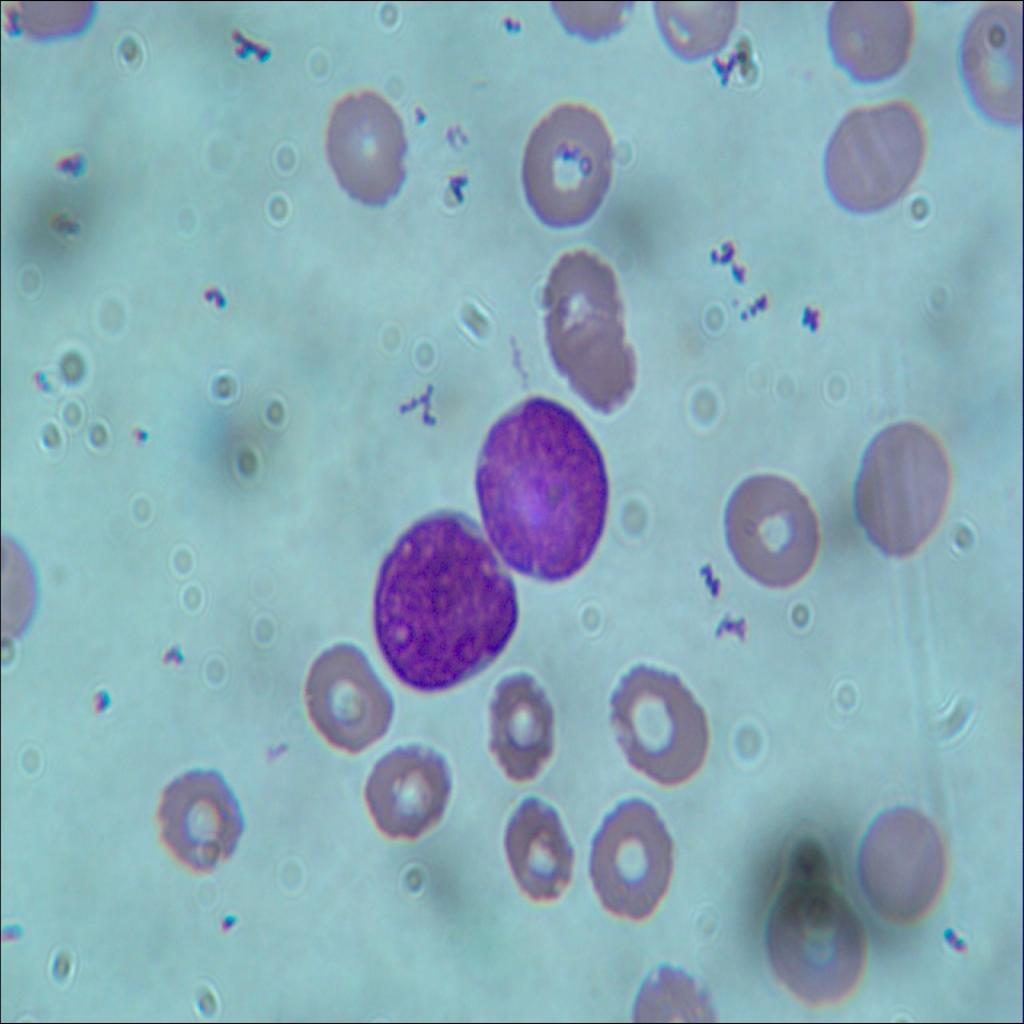Eritrosit: (844, 418, 959, 571), (313, 79, 416, 224), (512, 101, 614, 241), (601, 660, 709, 787), (583, 790, 683, 924), (760, 879, 866, 1004), (820, 94, 926, 217), (719, 472, 824, 595), (850, 797, 948, 924), (356, 732, 459, 844), (303, 638, 396, 761), (149, 767, 253, 870), (558, 307, 644, 425), (502, 782, 578, 914), (484, 664, 562, 788), (540, 246, 622, 358), (819, 0, 924, 81)
Limfoblast: (368, 501, 522, 701), (475, 397, 613, 595)
Platelet: (210, 904, 246, 945), (122, 409, 148, 452), (735, 302, 751, 325)
